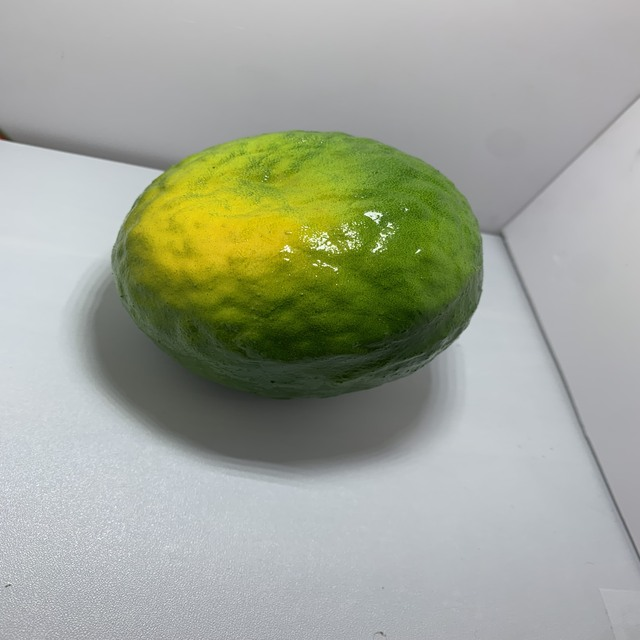Cam xanh: (107, 122, 486, 409)
